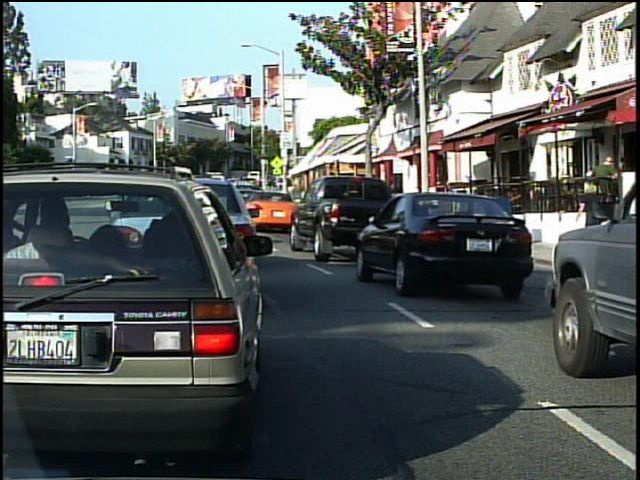person: (587, 149, 624, 237), (578, 174, 614, 261)
